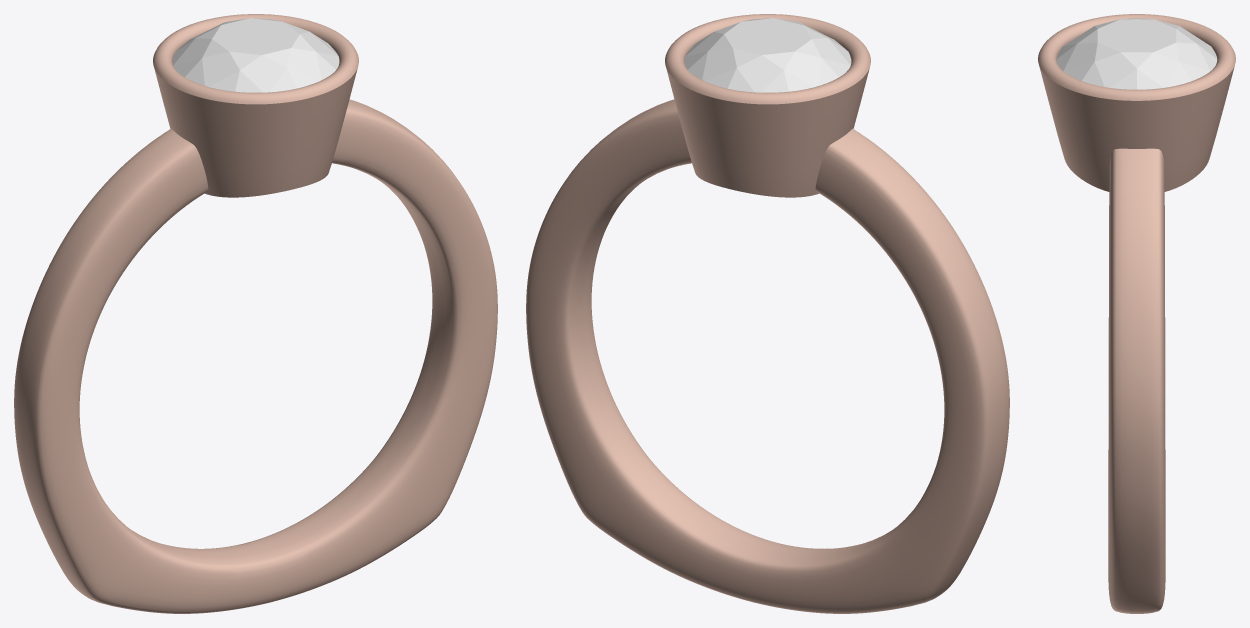
Rendered from diamond-round-rosegold-bezelset-europeanshank-nosidestones.glb.
3 views of the same model, side by side, from view 1: azimuth 30°, elevation 25°; view 2: azimuth 150°, elevation 25°; view 3: azimuth 270°, elevation 25° (orthographic). The views are drawn at different scales.
Parts seen in each view (by area): view 1: Round European shank bezel, Roundstone; view 2: Round European shank bezel, Roundstone; view 3: Round European shank bezel, Roundstone.
Boxes of the visible parts, x1,y1,x2,y2 form: Round European shank bezel: (14,14,497,613); Roundstone: (172,18,339,92); Round European shank bezel: (526,14,1009,613); Roundstone: (684,18,851,92); Round European shank bezel: (1038,14,1235,613); Roundstone: (1056,18,1217,89).
Size of the model in its own units: 20.71 by 23.81 by 7.94.
